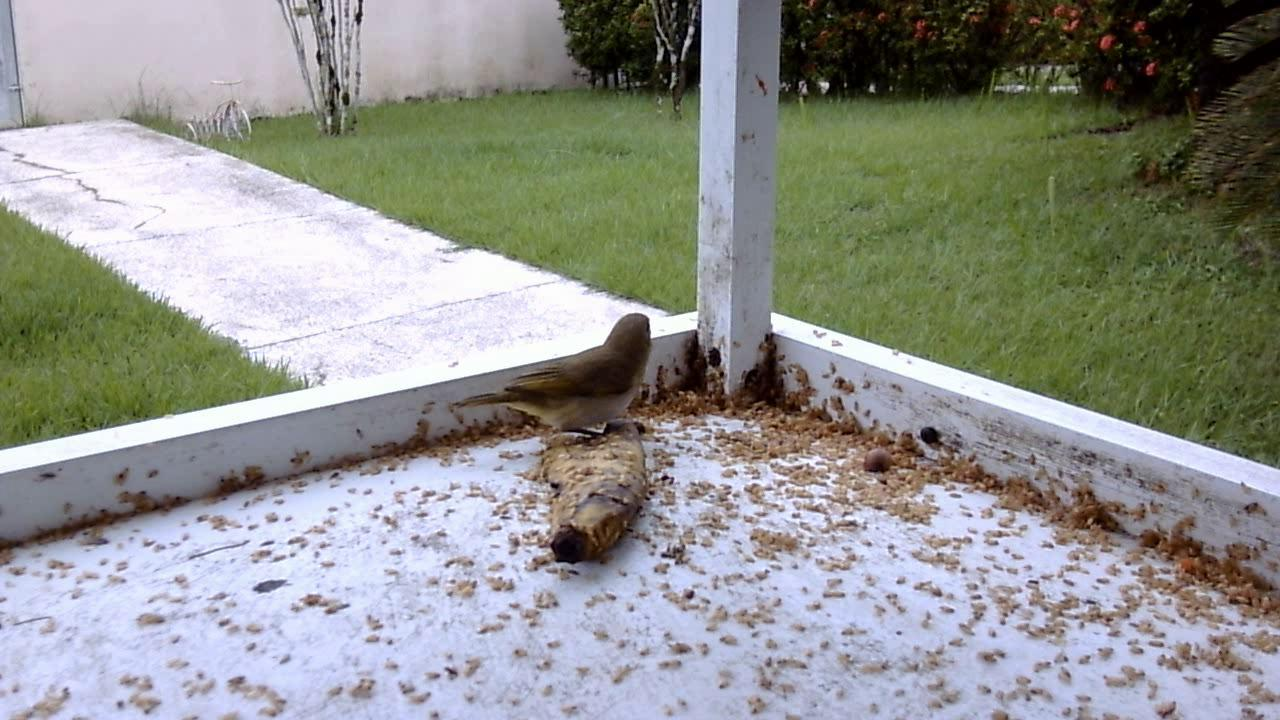canario_do_amazonas: (457, 311, 660, 445)
